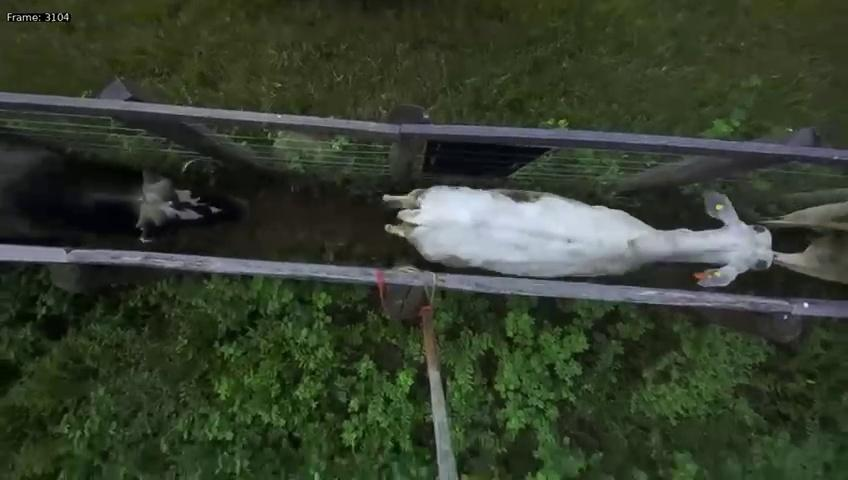cattle: (372, 175, 786, 295)
